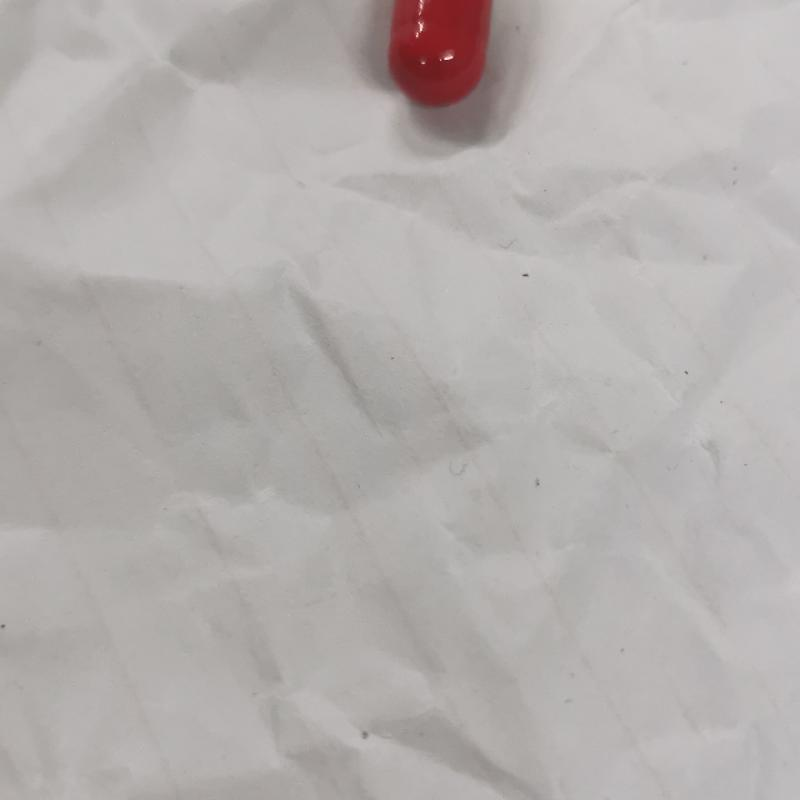pills: (373, 0, 508, 124)
